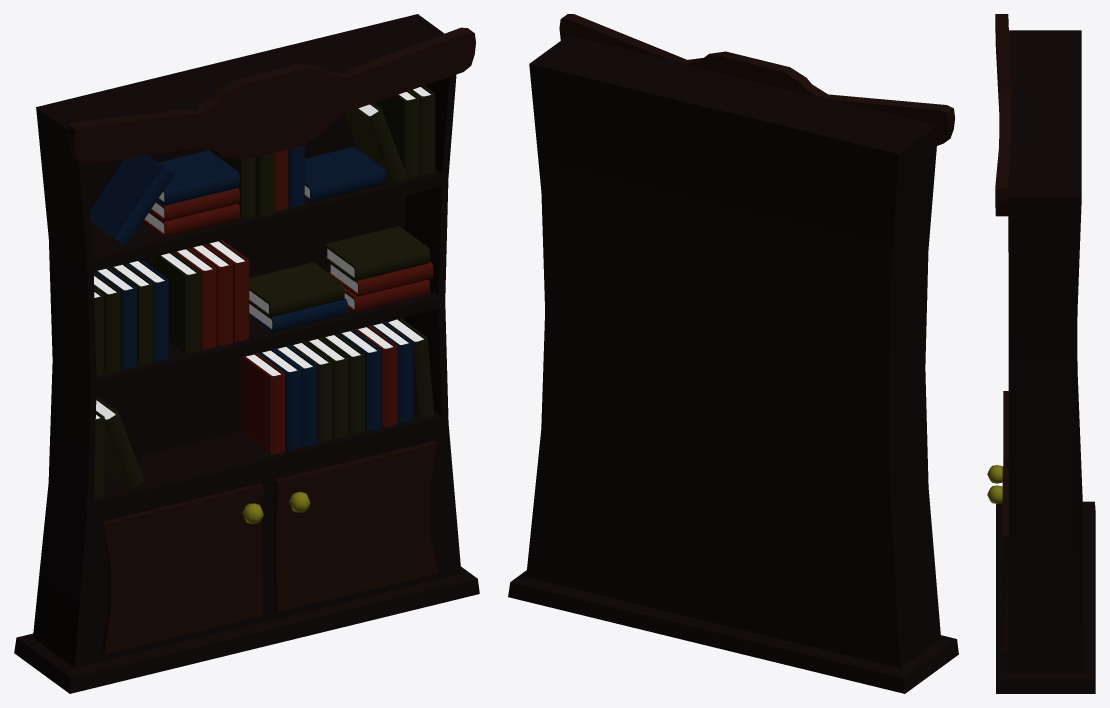
Rendered from prop_bookshelf_2.FBX.
3 renders of one model, left to right at view 1: azimuth 30°, elevation 25°; view 2: azimuth 150°, elevation 25°; view 3: azimuth 270°, elevation 25°, orthographic. The views are drawn at different scales.
Parts seen in each view (by area): view 1: Bookshelf 2; view 2: Bookshelf 2; view 3: Bookshelf 2.
Boxes of the visible parts, <box> form: Bookshelf 2: <box>14,14,479,693</box>; Bookshelf 2: <box>508,14,958,693</box>; Bookshelf 2: <box>987,14,1095,693</box>.
Size of the model in its own units: 0.8106 by 1.07 by 0.2078.
